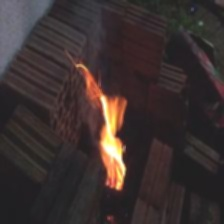fire: (81, 63, 132, 197)
